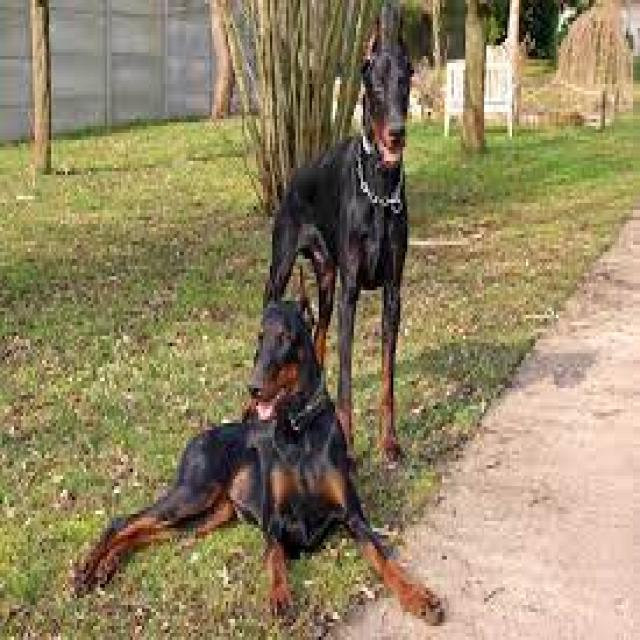Dog: (75, 266, 446, 630), (265, 11, 416, 426)
